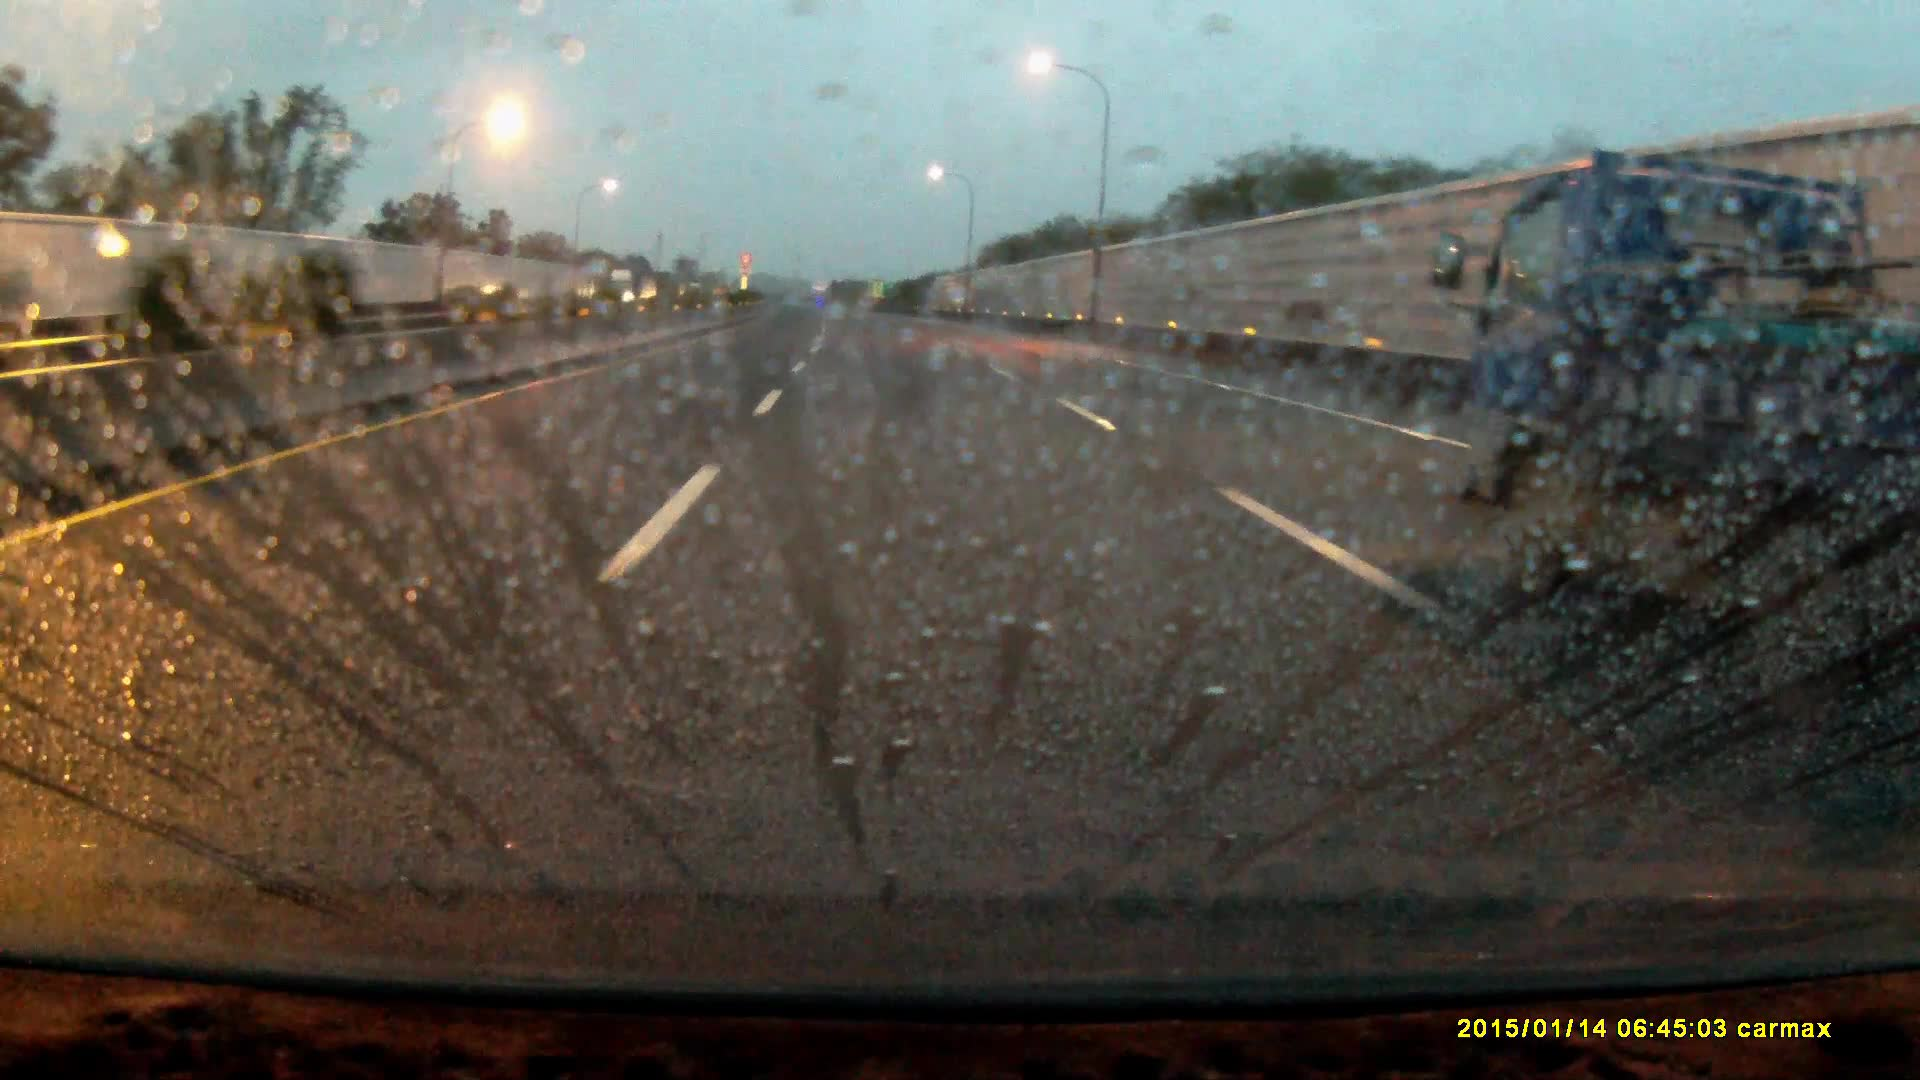vehicle: (1470, 156, 1920, 609), (609, 268, 644, 305)
